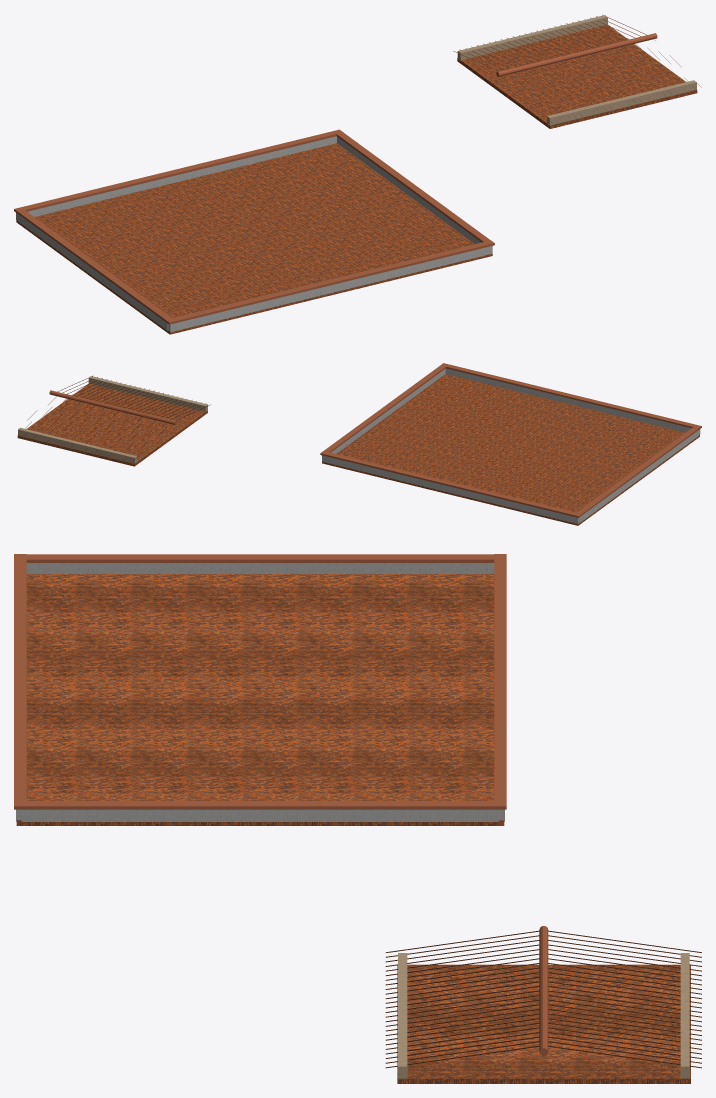
File: sd_casa_atlas_xl_v2_techo.glb
3 views of the same model, one above another, from view 1: azimuth 30°, elevation 25°; view 2: azimuth 150°, elevation 25°; view 3: azimuth 270°, elevation 25° (orthographic). The views are drawn at different scales.
Visible parts, largest first — view 1: techo_tile, techo_clay, techo_stucco, techo_ochre; view 2: techo_tile, techo_clay, techo_stucco, techo_ochre; view 3: techo_tile, techo_clay, techo_stucco, techo_ochre.
Part boxes in pixels (left/top/right/bottom): techo_tile: left=16, top=14, right=701, bottom=334; techo_clay: left=14, top=33, right=657, bottom=324; techo_stucco: left=16, top=136, right=492, bottom=332; techo_ochre: left=457, top=15, right=696, bottom=125; techo_tile: left=17, top=374, right=699, bottom=525; techo_clay: left=49, top=363, right=701, bottom=517; techo_stucco: left=322, top=368, right=700, bottom=523; techo_ochre: left=18, top=376, right=207, bottom=463; techo_tile: left=16, top=574, right=701, bottom=1083; techo_clay: left=14, top=554, right=548, bottom=1055; techo_stucco: left=16, top=563, right=504, bottom=821; techo_ochre: left=398, top=953, right=689, bottom=1080.
Bounding box in the file's own units: 32.42 × 1.17 × 18.62.
5 materials, 5 textured.
